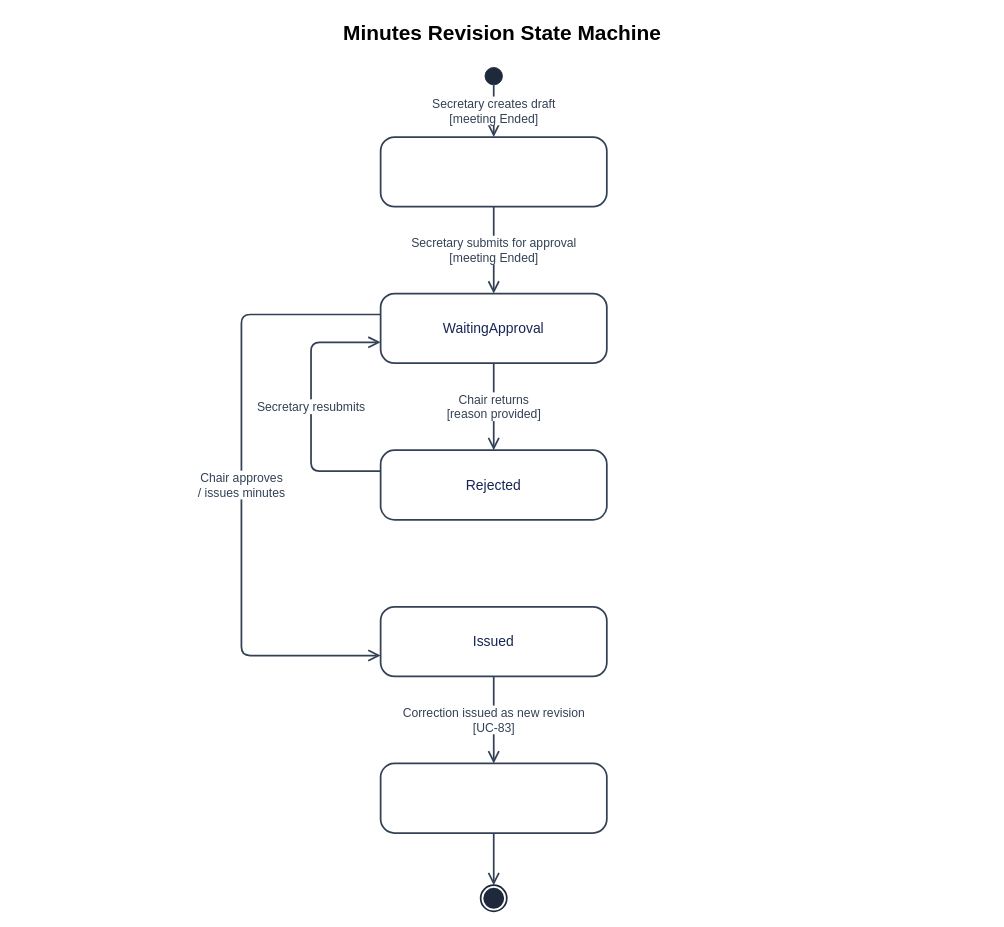
Image size: 1004x927. Some labels were removed from this diagram. The shapes that lost their labels are listed below. From the top down, each one's centre as x and y in pixels, then its label:
At point (493, 171): "Draft".
At point (493, 797): "Superseded".
